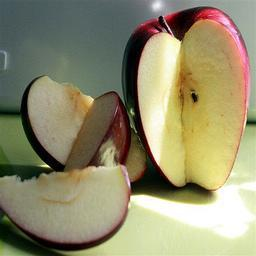apple: (128, 2, 249, 186)
